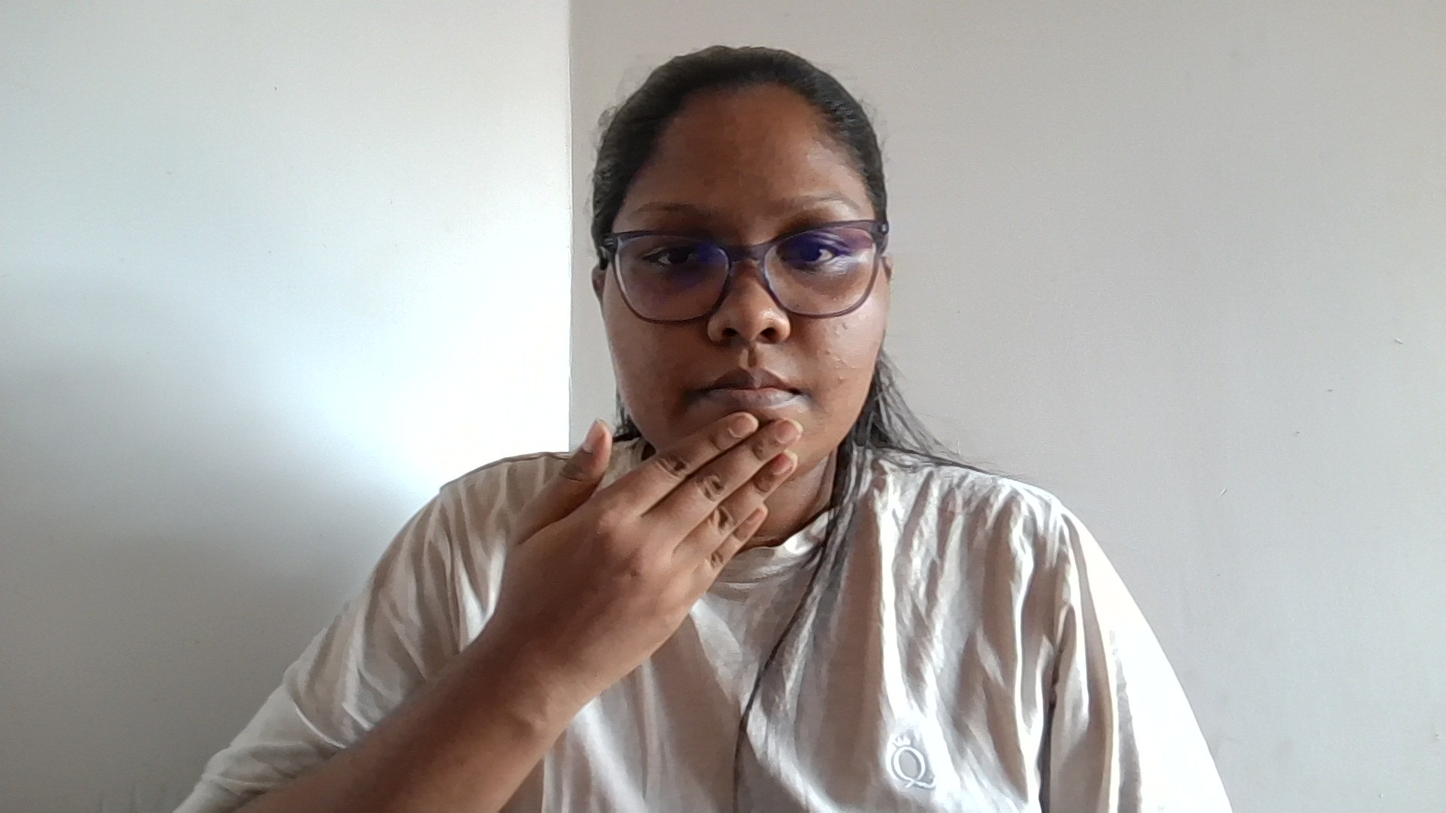Thank You: (484, 388, 970, 688)
